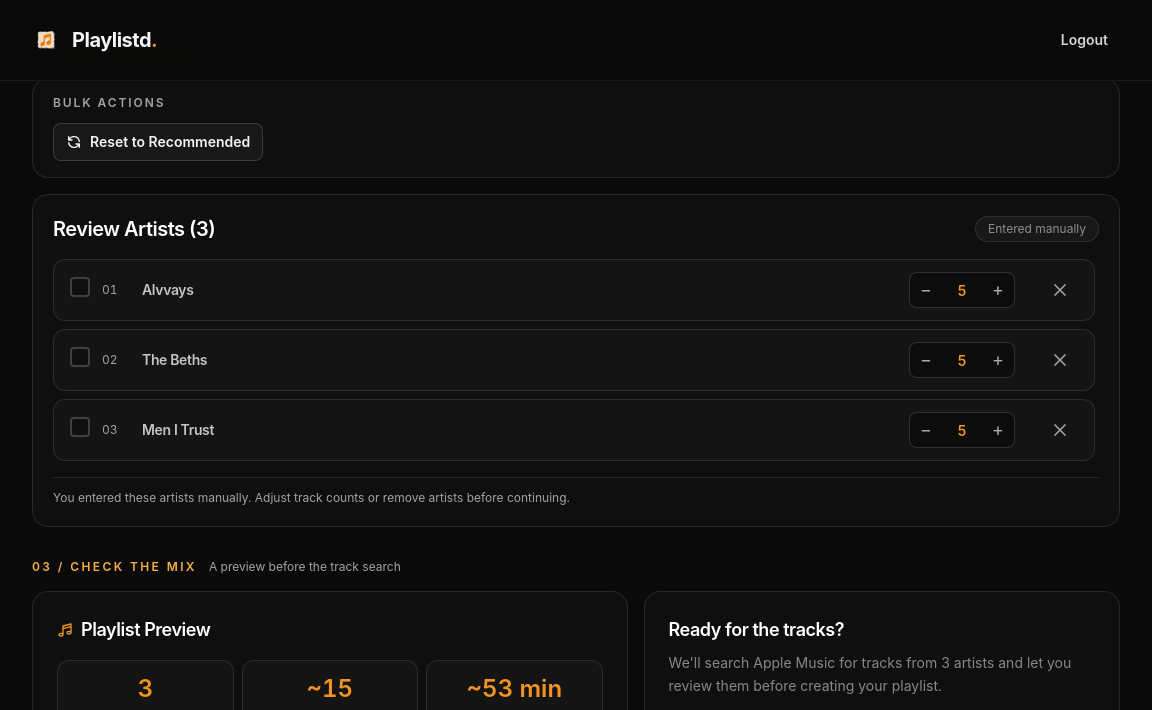
Test case: review-artists with a manually entered (text) lineup › reset restores 5 tracks each for text input
(page scrolled)
Expected: the heading "Review Artists (3)" is shown, [53,215,215,243]
Replace the text in the number field named "Track count for The Beths" with "10" at (962, 360), box [942,344,982,376]
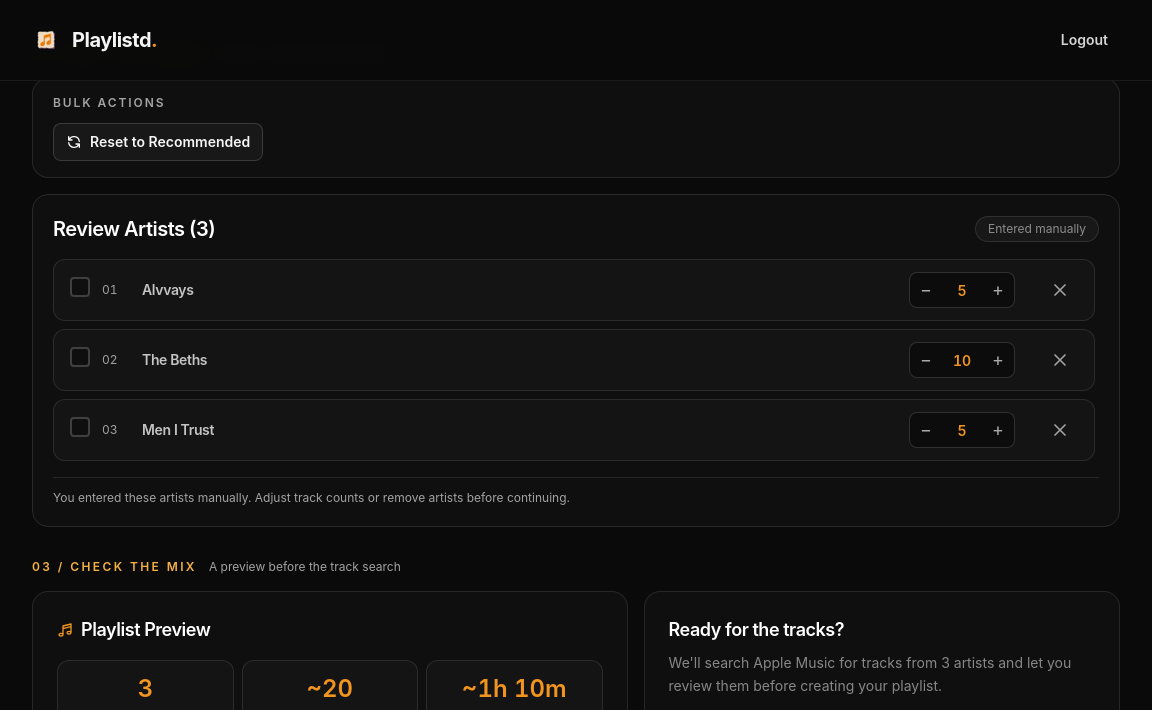
Click the button "Reset to Recommended".
click(158, 142)  # box [53,123,263,161]
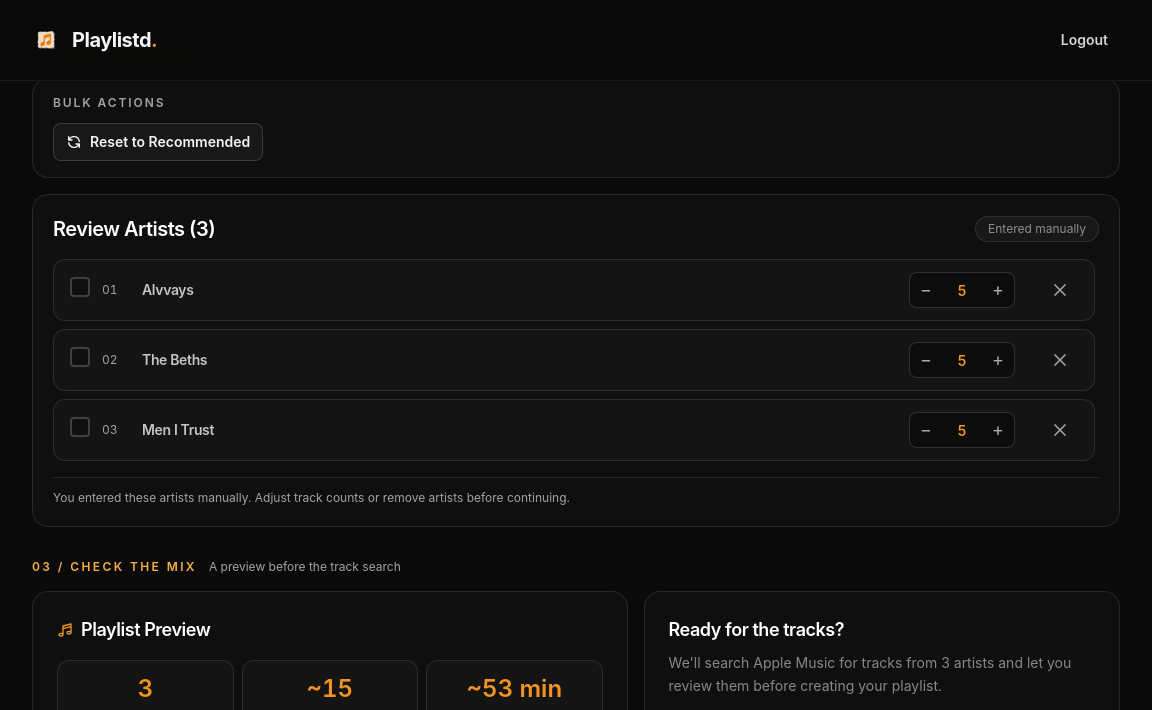
Expected: the number field named "Track count for Alvvays" holds "5", [942,274,982,306]
Expected: the number field named "Track count for The Beths" holds "5", [942,344,982,376]
Expected: the text "~15" is shown, [306,674,353,703]
